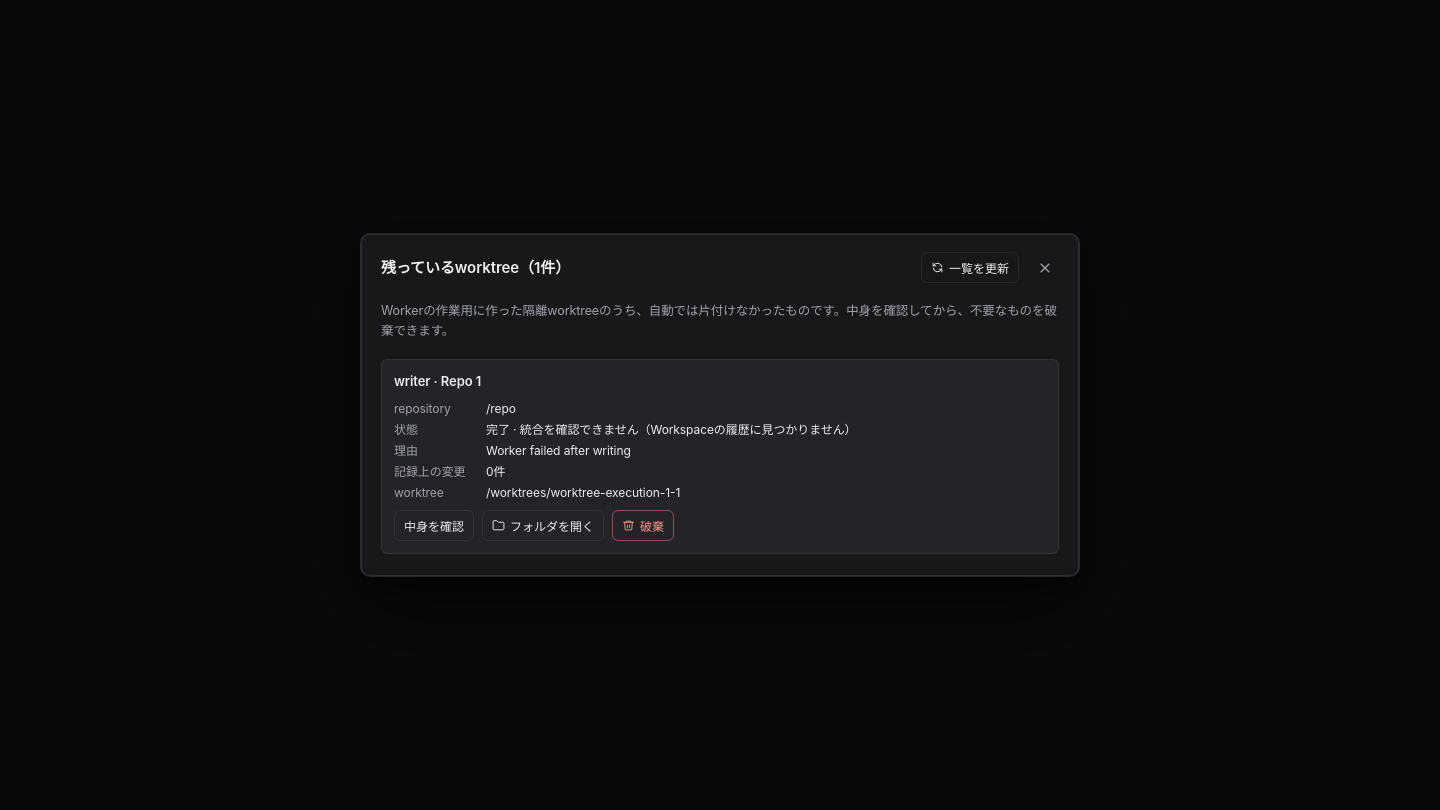
Test: TeamRetainedWorktreesDialog (issue #544) › treats a recorded integration Main could not find in the Workspace as unintegrated
The image size is (1440, 810).
Check: the text with test id "team-retained-state" reads "完了 · 統合を確認できません（Workspaceの履歴に見つかりません）", box 486,422 -> 856,437
Click the button "破棄". click: (643, 525)
box: 612,510 -> 674,541
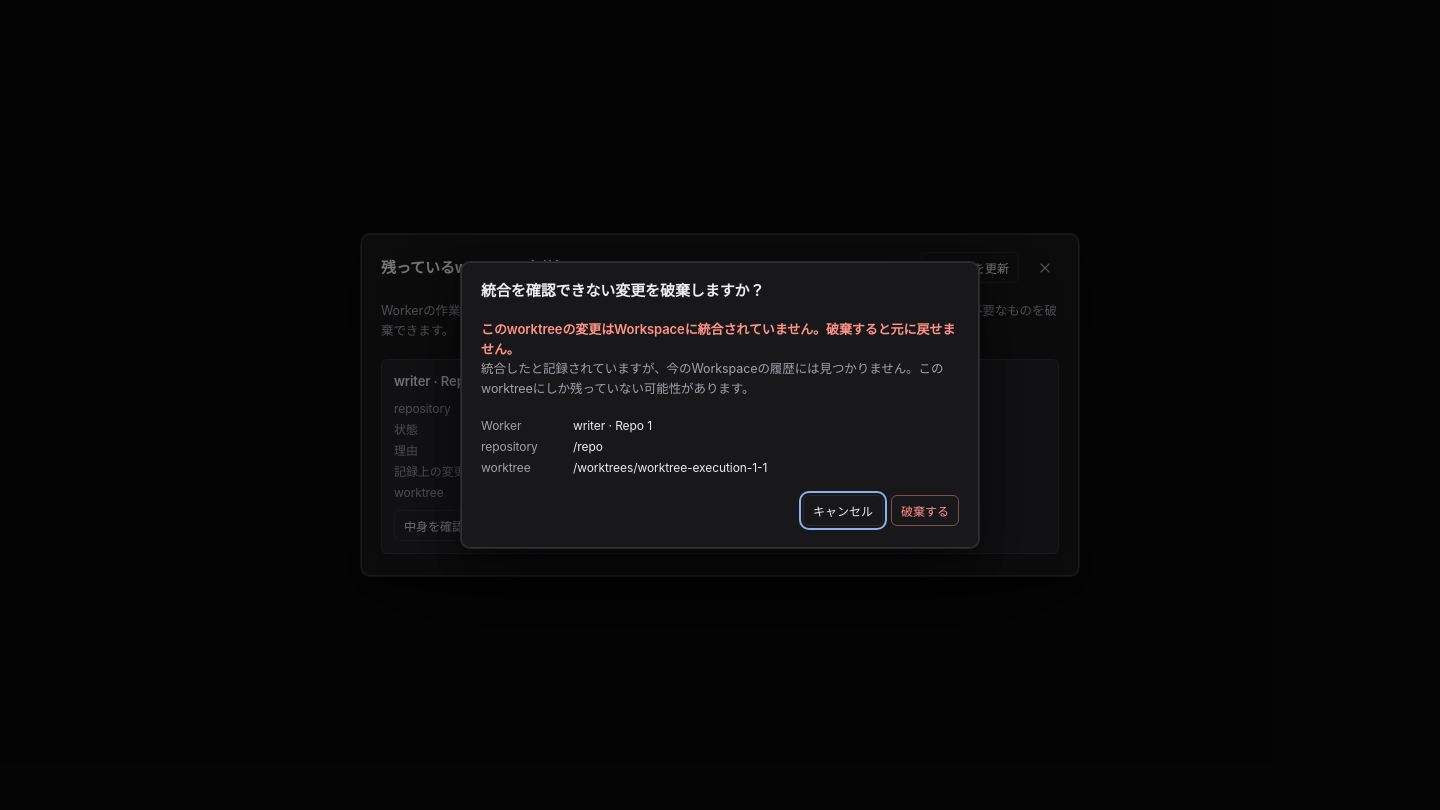
Check: the text with test id "team-retained-confirm-warning" reads "このworktreeの変更はWorkspaceに統合されていません。破棄すると元に戻せません。", box 481,321 -> 955,357
